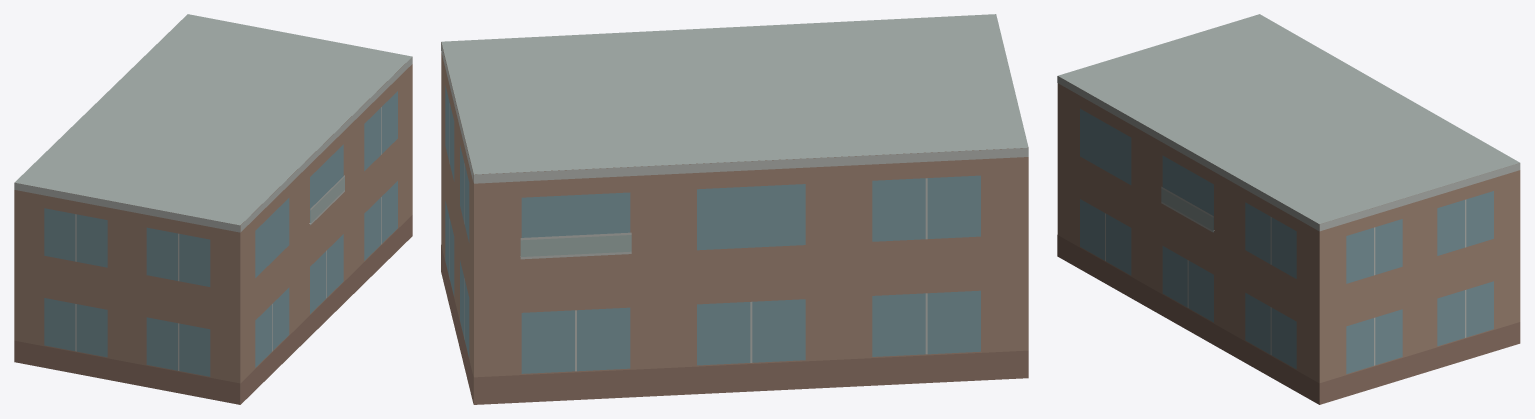
Rendered from survey-upis-32929702.glb.
The picture shows the model from 3 angles, left to right: view 1: azimuth 30°, elevation 25°; view 2: azimuth 150°, elevation 25°; view 3: azimuth 270°, elevation 25°; orthographic projection. The views are drawn at different scales.
Parts seen in each view (by area): view 1: survey-upis-32929702.tmp; view 2: survey-upis-32929702.tmp; view 3: survey-upis-32929702.tmp.
Boxes of the visible parts, left/top/right/bottom form: survey-upis-32929702.tmp: left=14, top=14, right=412, bottom=404; survey-upis-32929702.tmp: left=441, top=14, right=1028, bottom=404; survey-upis-32929702.tmp: left=1057, top=14, right=1520, bottom=404.
Size of the model in its own units: 15.23 by 6.1 by 14.17.
